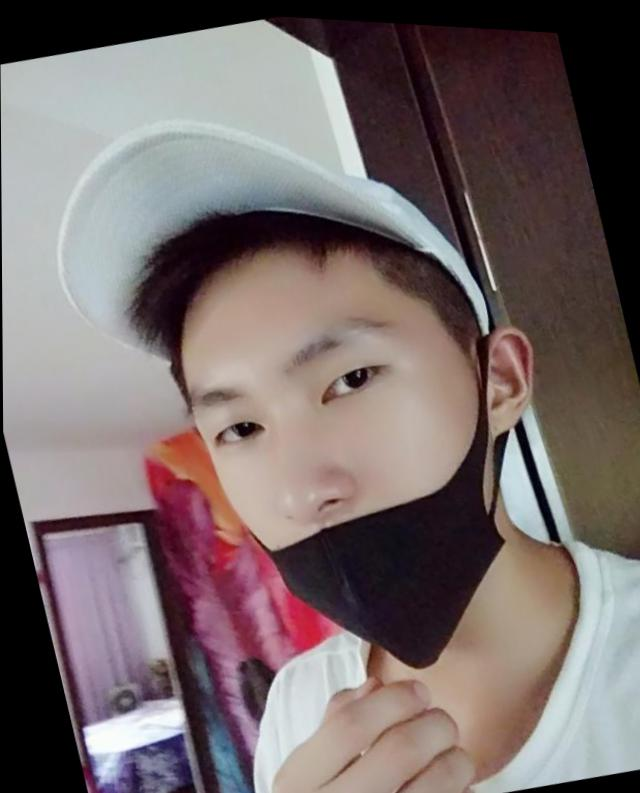WRONG: (171, 263, 536, 692)
